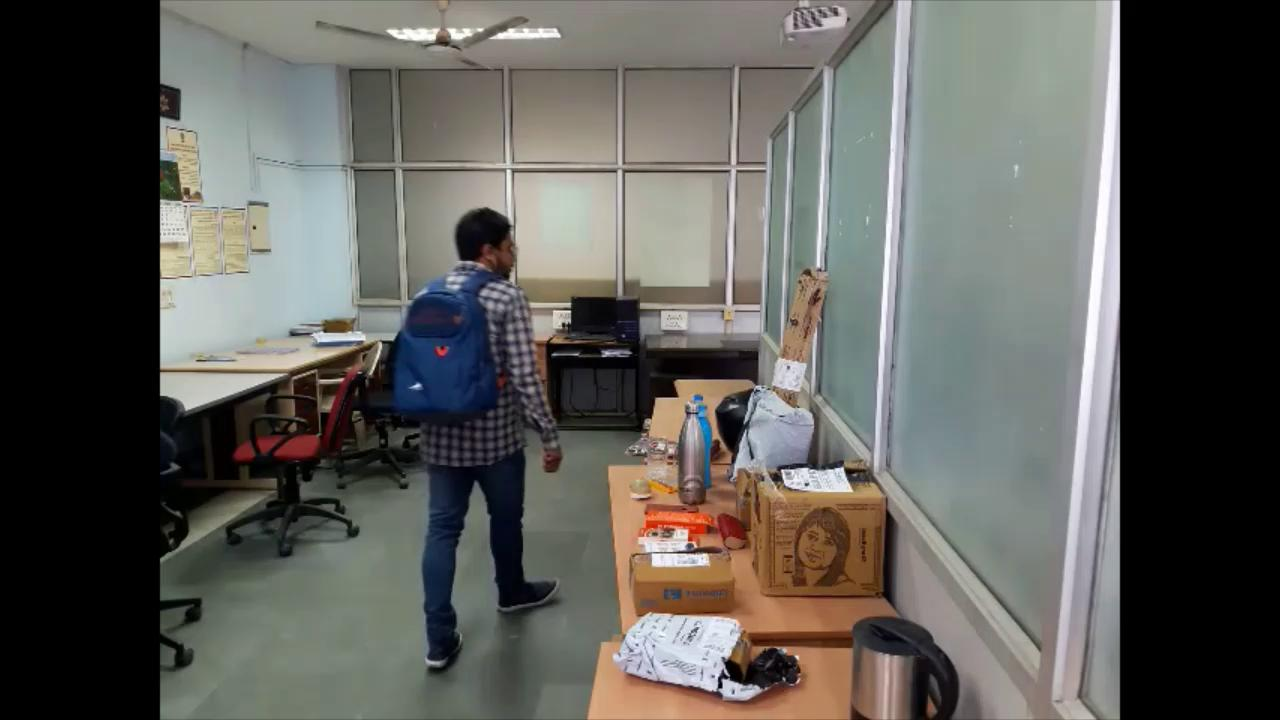Normal: (381, 197, 562, 684)
